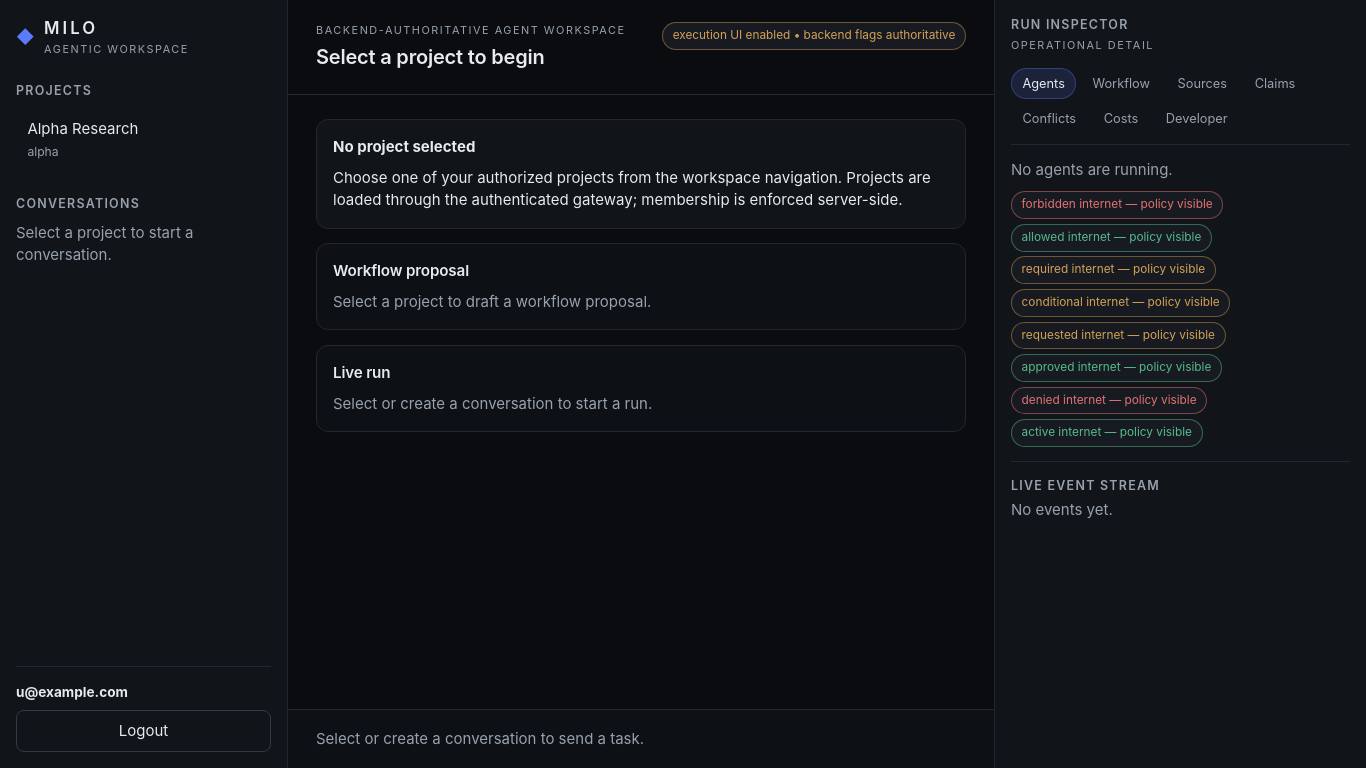
Test: durable run history › a stored run id wins over the history default
The image size is (1366, 768).
Click the text "Alpha Research".
click(83, 128)  # box top-left (27, 119), bottom-right (138, 138)
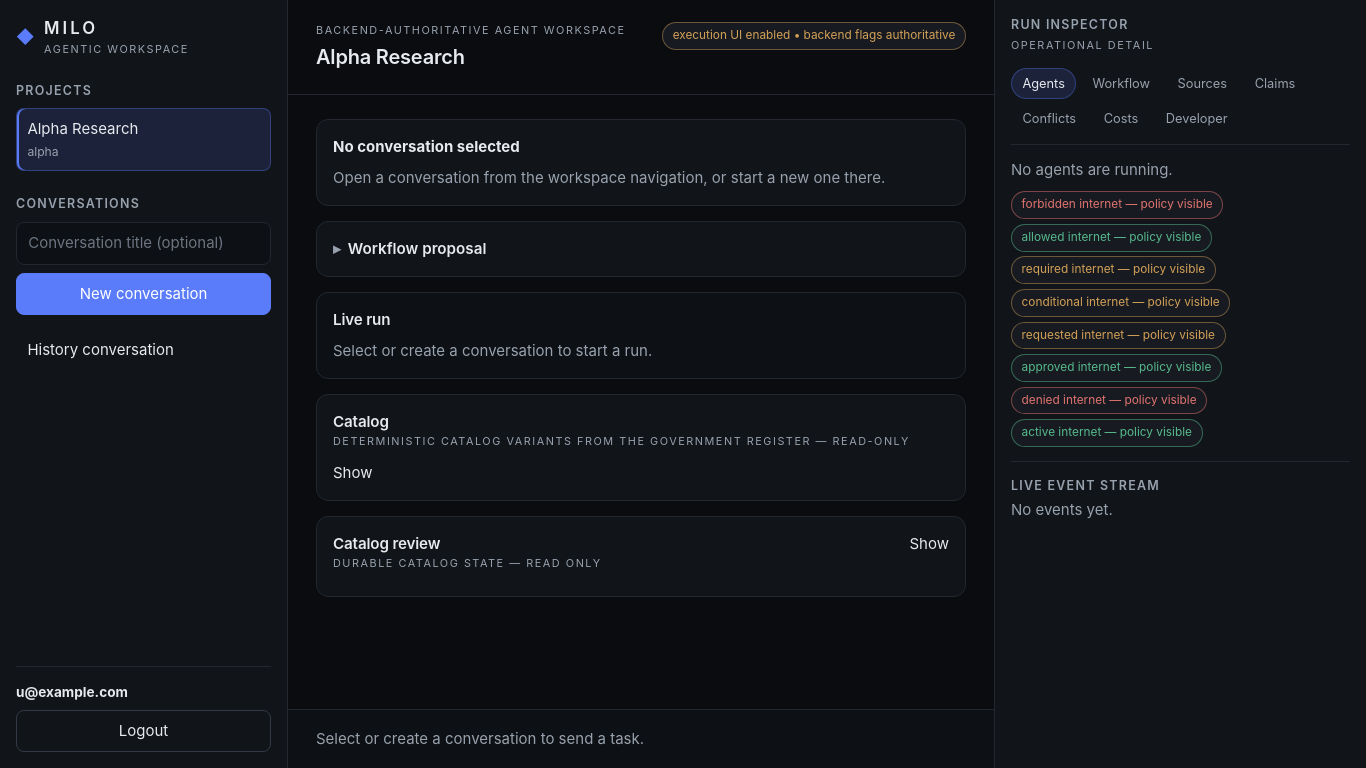
Click the button "History conversation".
click(144, 350)  # box top-left (16, 329), bottom-right (271, 371)
(page scrolled)
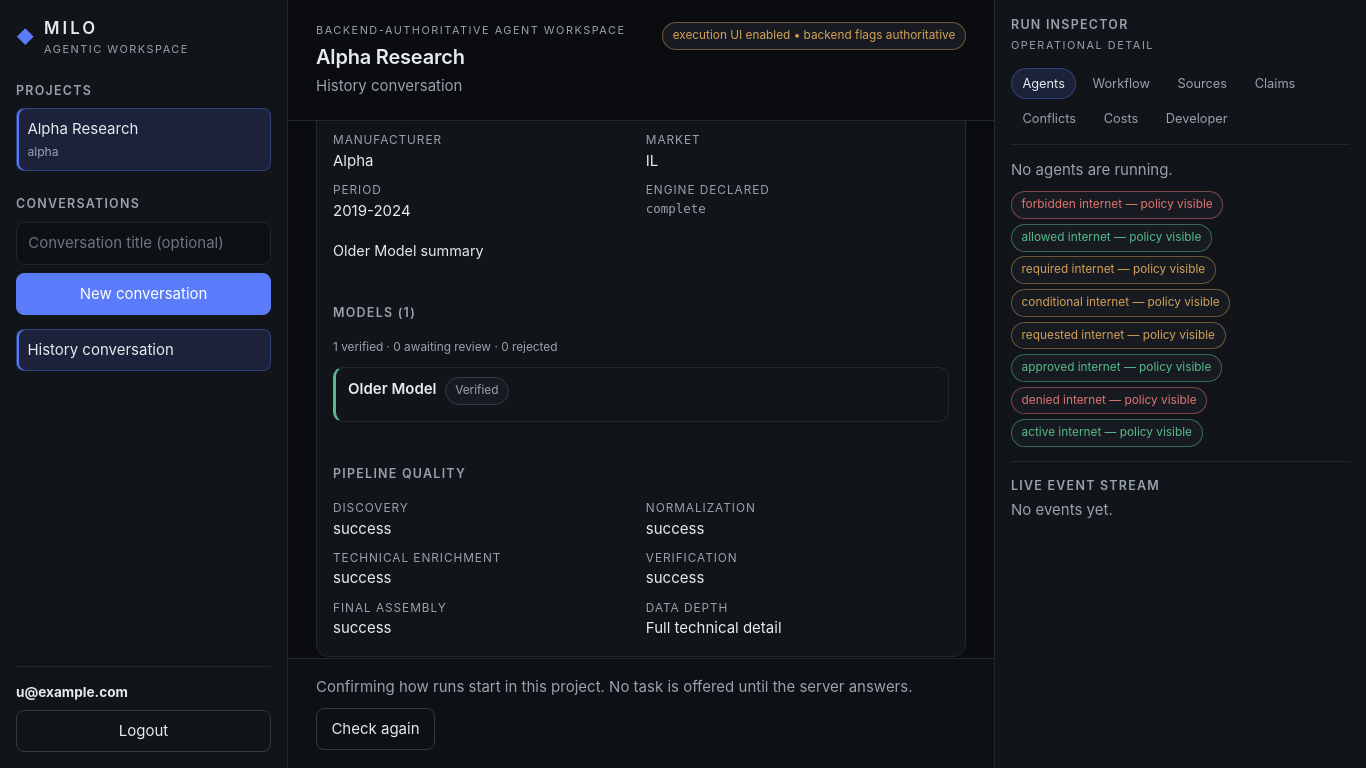
Check: the text "Older Model" is shown, box top-left (348, 378), bottom-right (436, 401)
